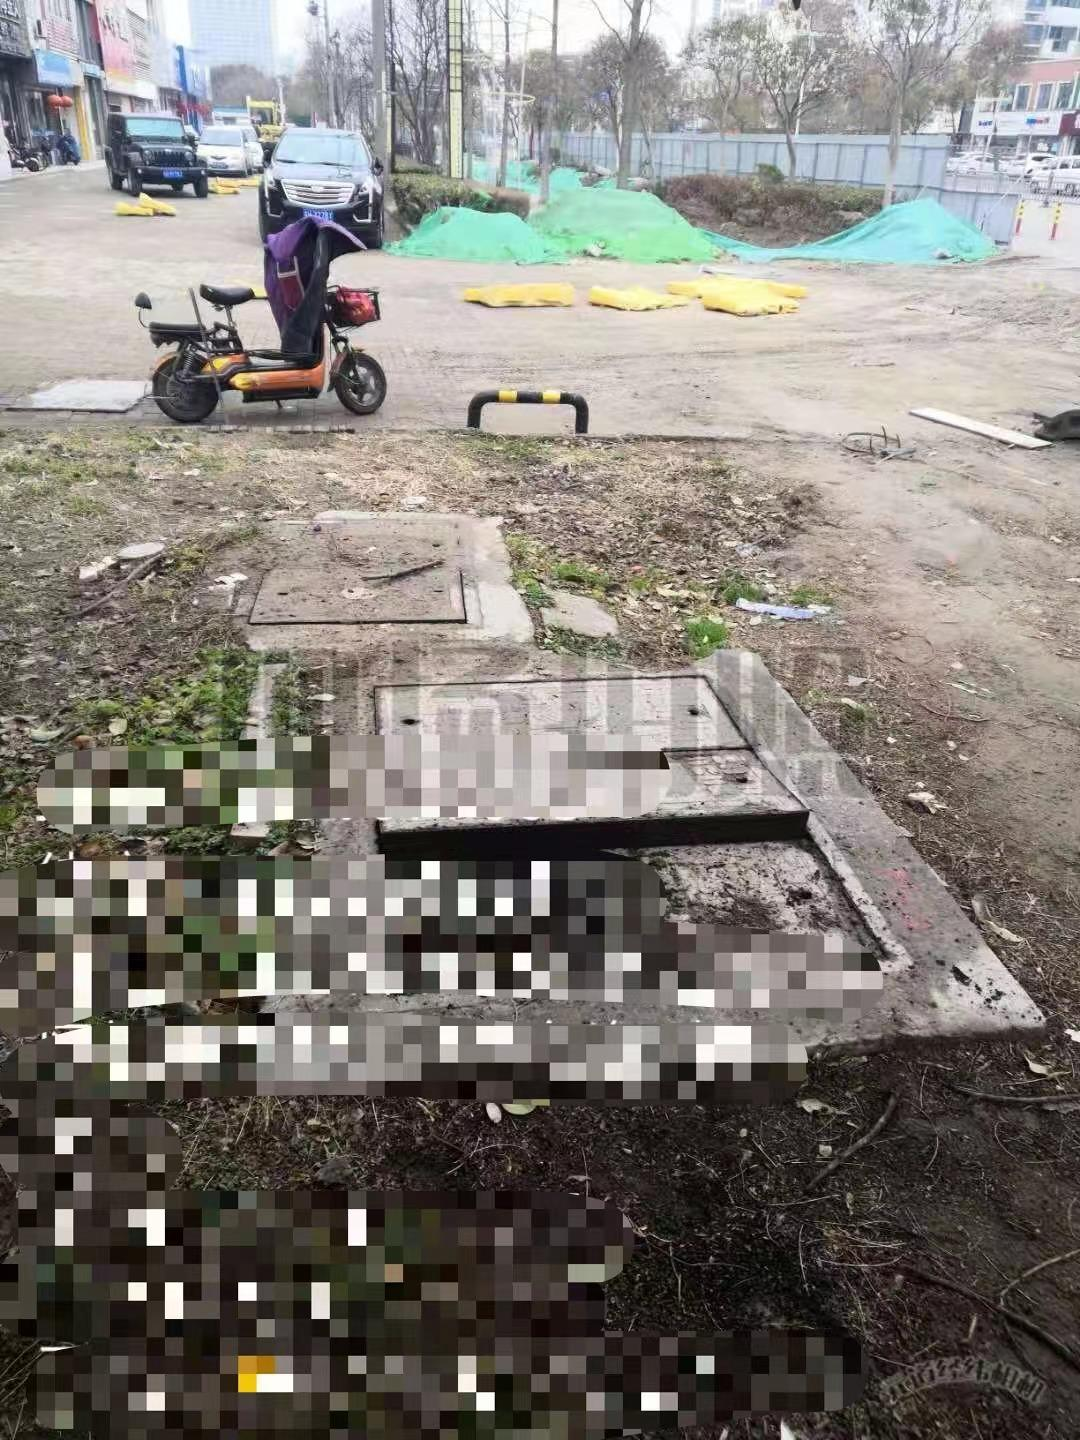wellcover: (303, 674, 933, 1031), (193, 476, 503, 654)
